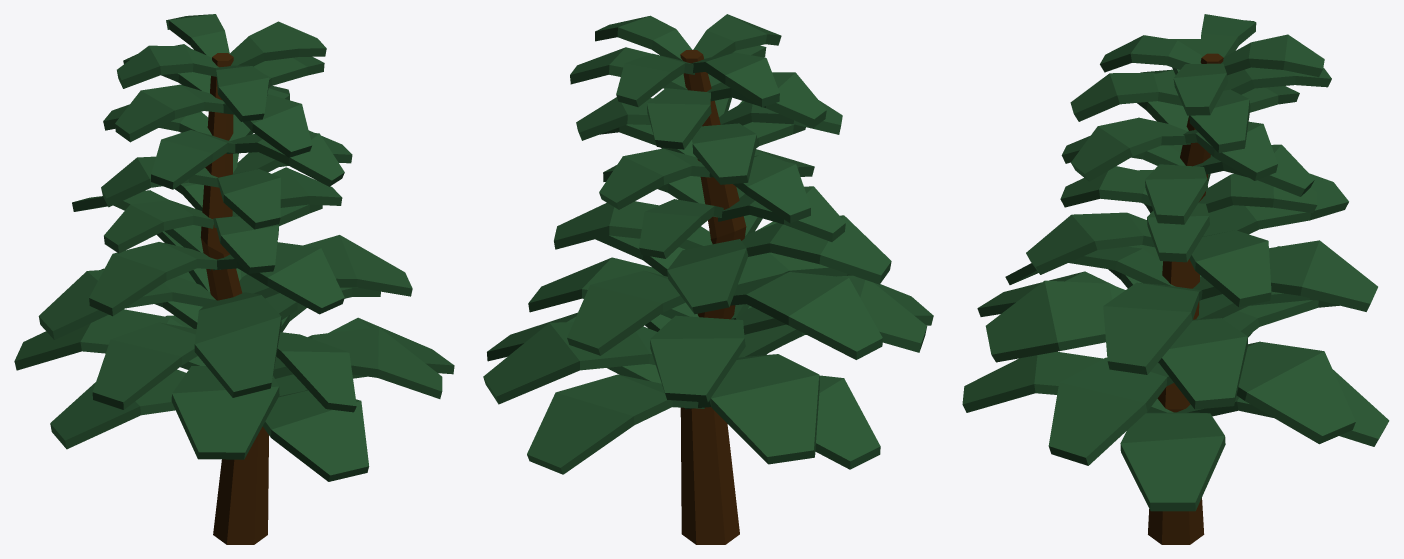
Rendered from Smreka01.glb.
3 renders of one model, left to right at view 1: azimuth 30°, elevation 25°; view 2: azimuth 150°, elevation 25°; view 3: azimuth 270°, elevation 25°, orthographic. The views are drawn at different scales.
Visible parts, largest first — view 1: Smreka01; view 2: Smreka01; view 3: Smreka01.
Part boxes in pixels (left/top/right/bottom): Smreka01: left=14, top=14, right=454, bottom=544; Smreka01: left=483, top=14, right=933, bottom=544; Smreka01: left=962, top=14, right=1389, bottom=544.
Bounding box in the file's own units: 0.5218 × 0.6361 × 0.4996.
